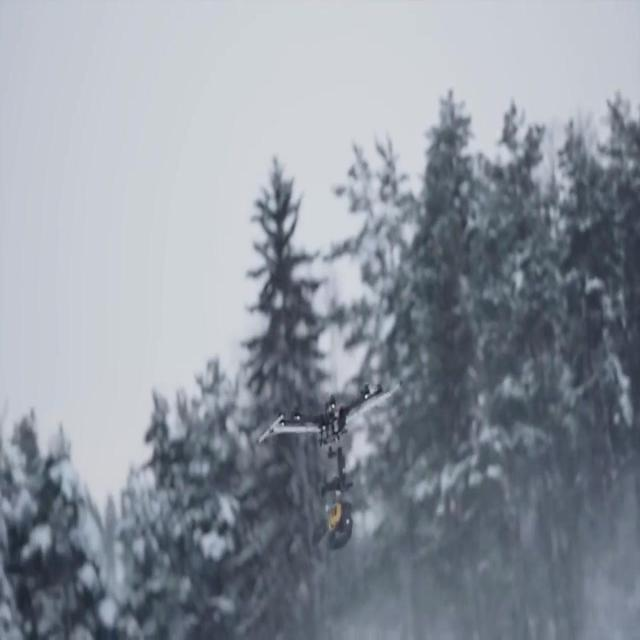drone: (256, 376, 406, 501)
